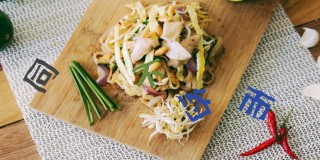不: (131, 60, 165, 91)
同: (22, 58, 60, 94)
约: (177, 87, 212, 122)
而: (237, 84, 274, 120)
